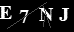7: (18, 9, 29, 23)
E: (1, 5, 11, 19)
J: (58, 7, 69, 22)
N: (38, 7, 54, 22)
